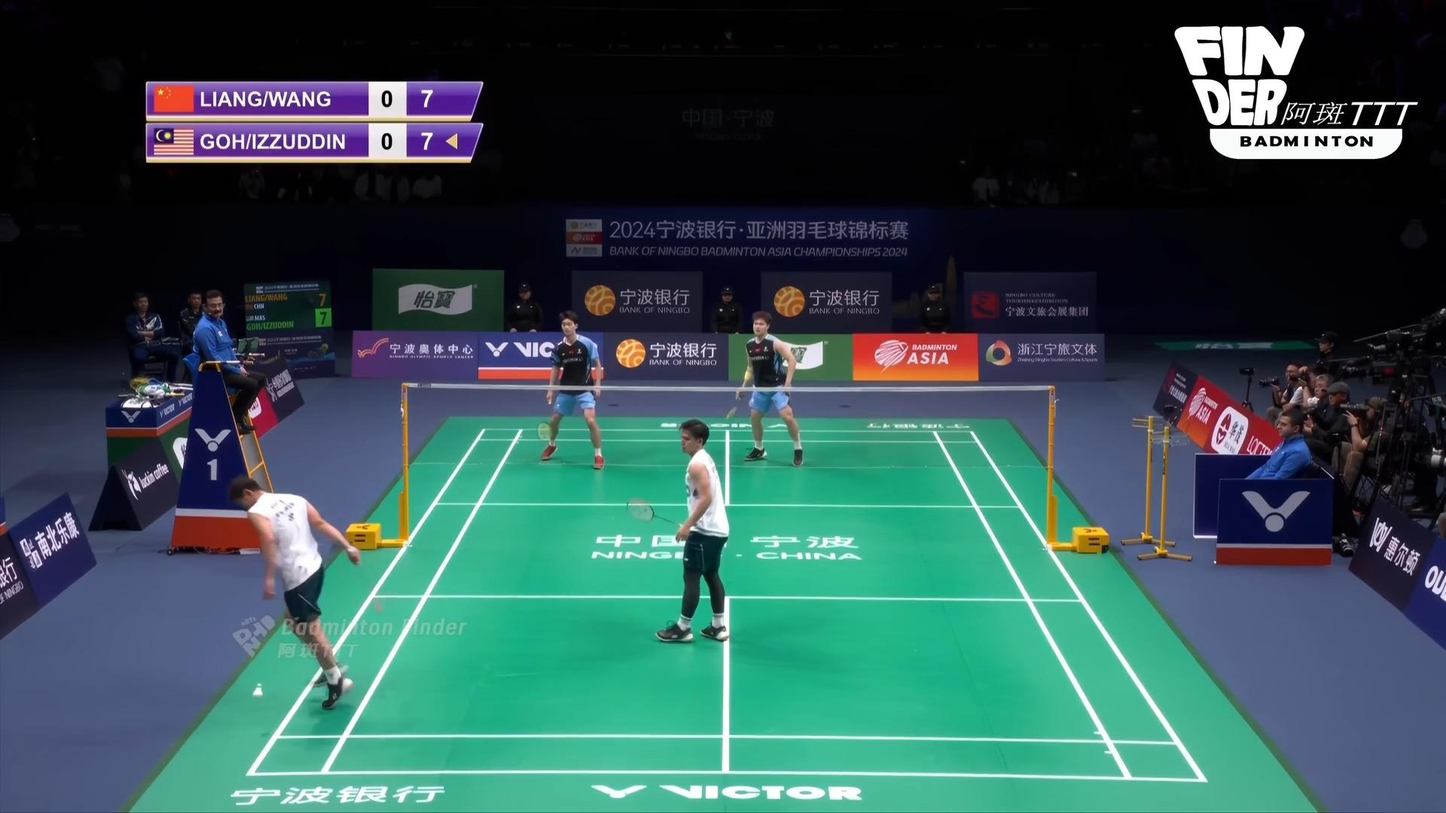player: (231, 477, 361, 710), (657, 419, 731, 643), (735, 310, 804, 467), (541, 312, 606, 470)
shuttlecock: (252, 684, 264, 698)
